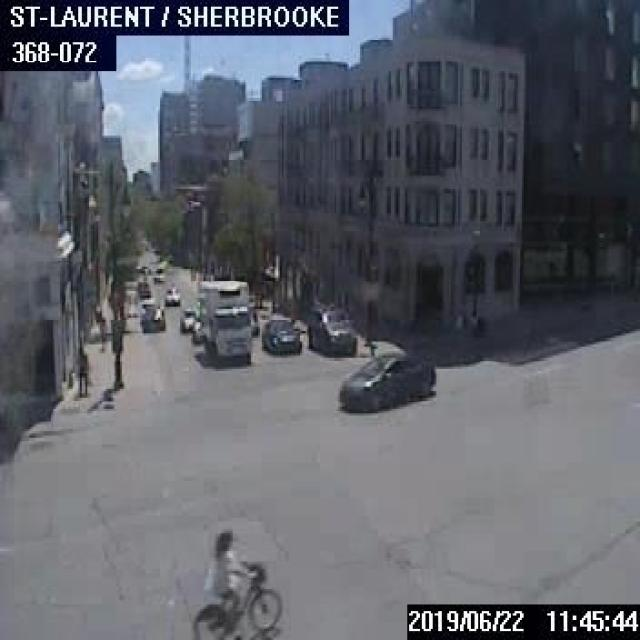cyclist: (190, 526, 279, 638)
pedestrian: (75, 342, 89, 396), (98, 316, 106, 353)
vehicle: (338, 350, 435, 411), (198, 279, 249, 361), (306, 302, 356, 353), (260, 316, 300, 353), (140, 303, 163, 331), (178, 307, 196, 329), (163, 286, 180, 304), (248, 305, 258, 334), (191, 316, 201, 339), (136, 279, 149, 296)
